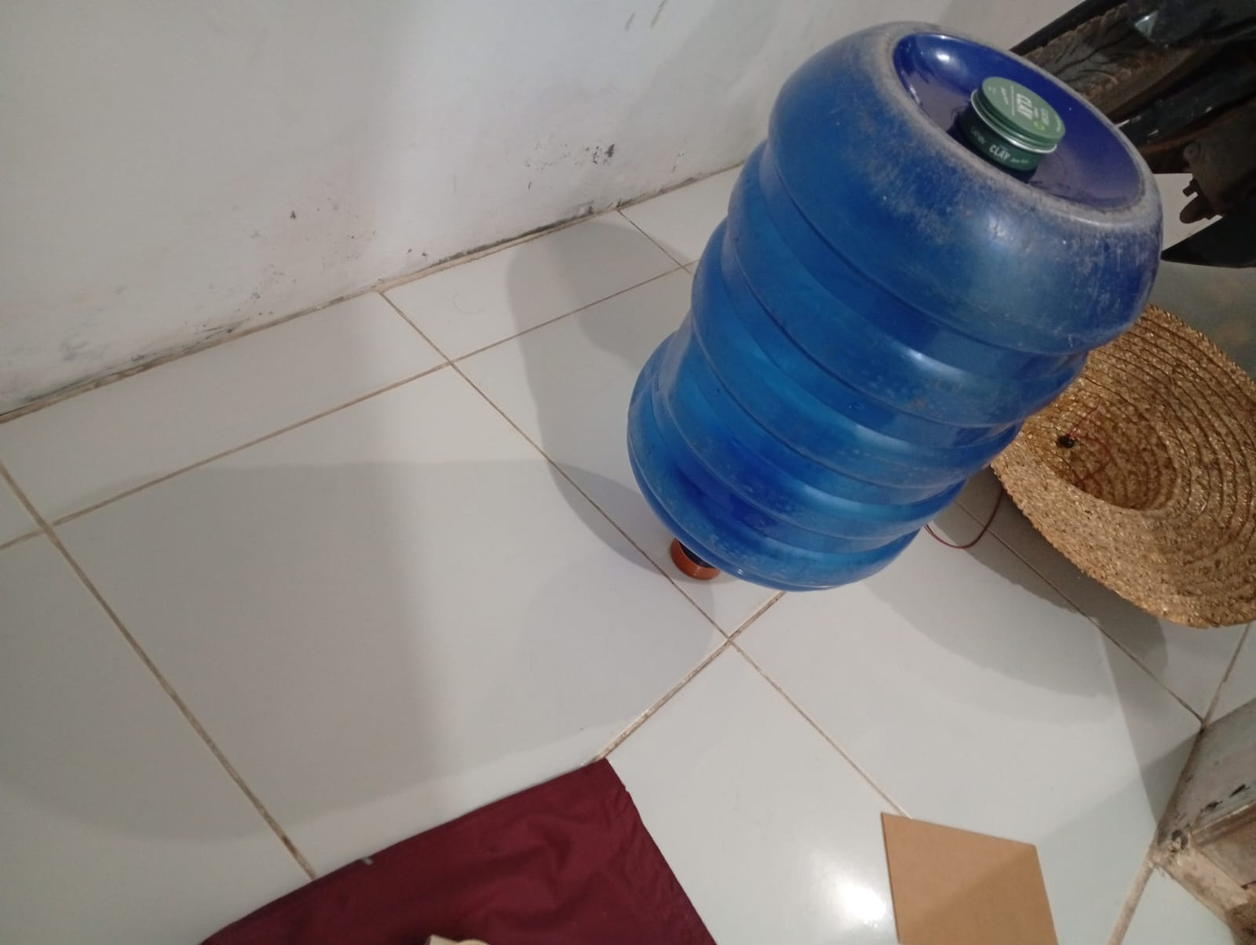Minyak_Rambut: (924, 45, 1095, 189), (1005, 6, 1034, 17)
